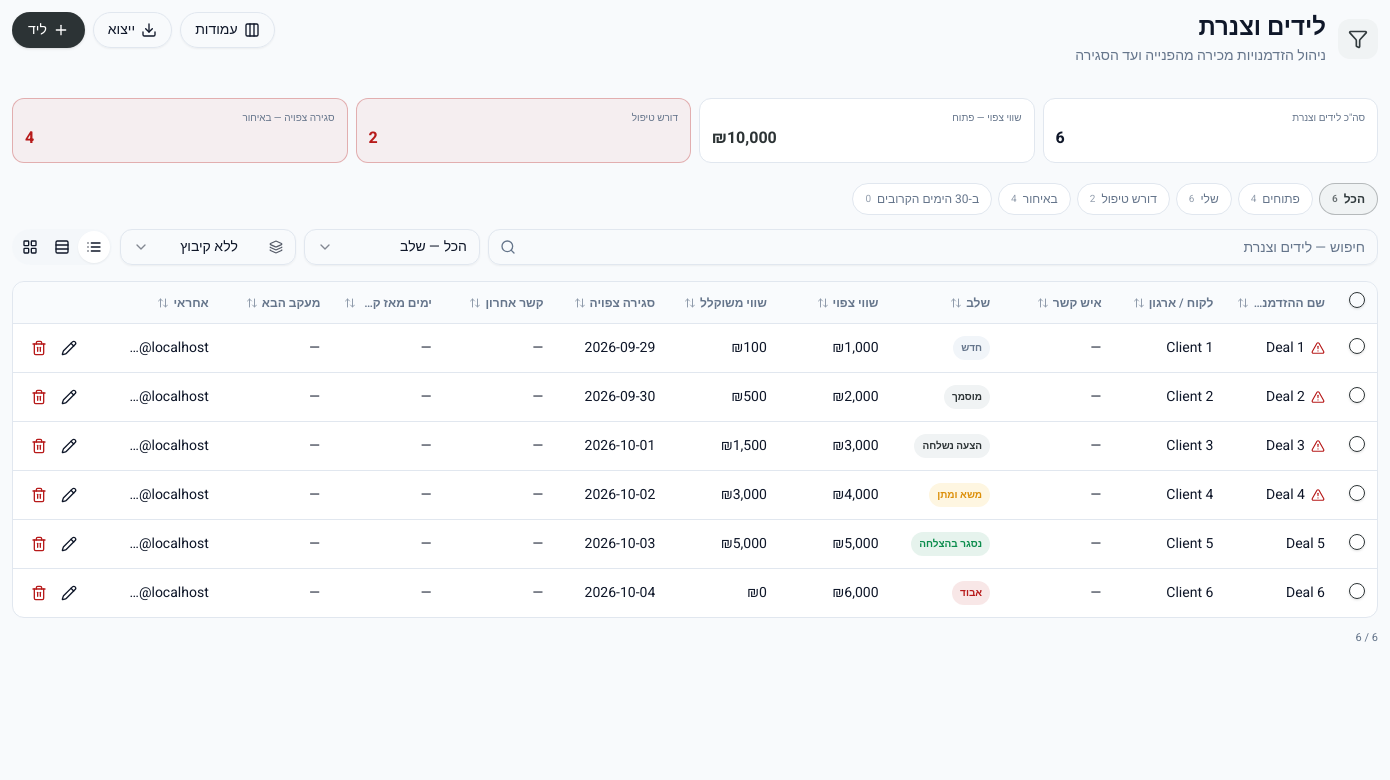
Scenario: selection and bulk actions › drops the selection when the visible set changes
The image size is (1390, 780).
Expected: the text "Deal 1" is shown, [1266,338,1305,358]
Click the checkbox named "בחירת שורה" in the row of "₪100" at (1357, 346), box [1349,338,1365,354]
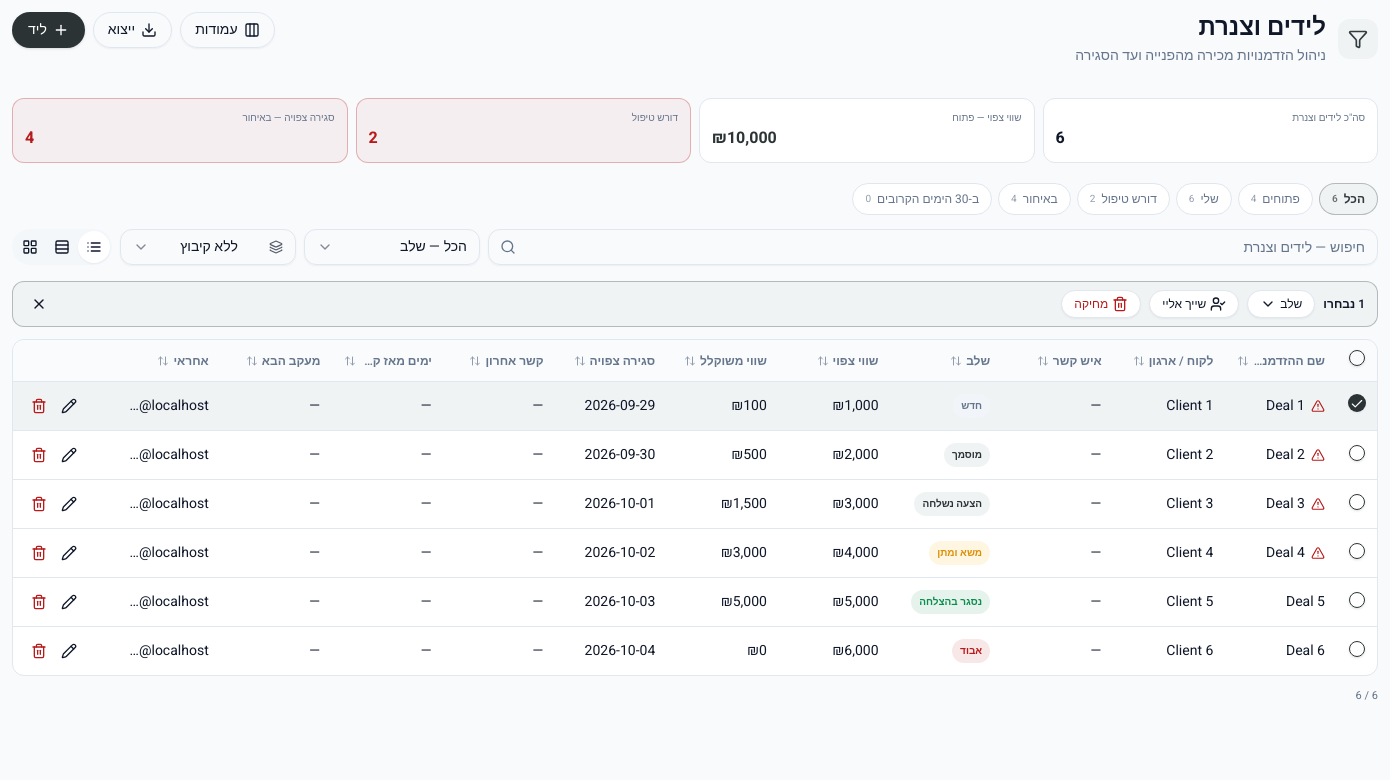
Expected: the text "1 נבחרו" is shown, [1323,295,1355,313]
Click the button "פתוחים 4" at (1275, 199), box [1238,183,1313,215]
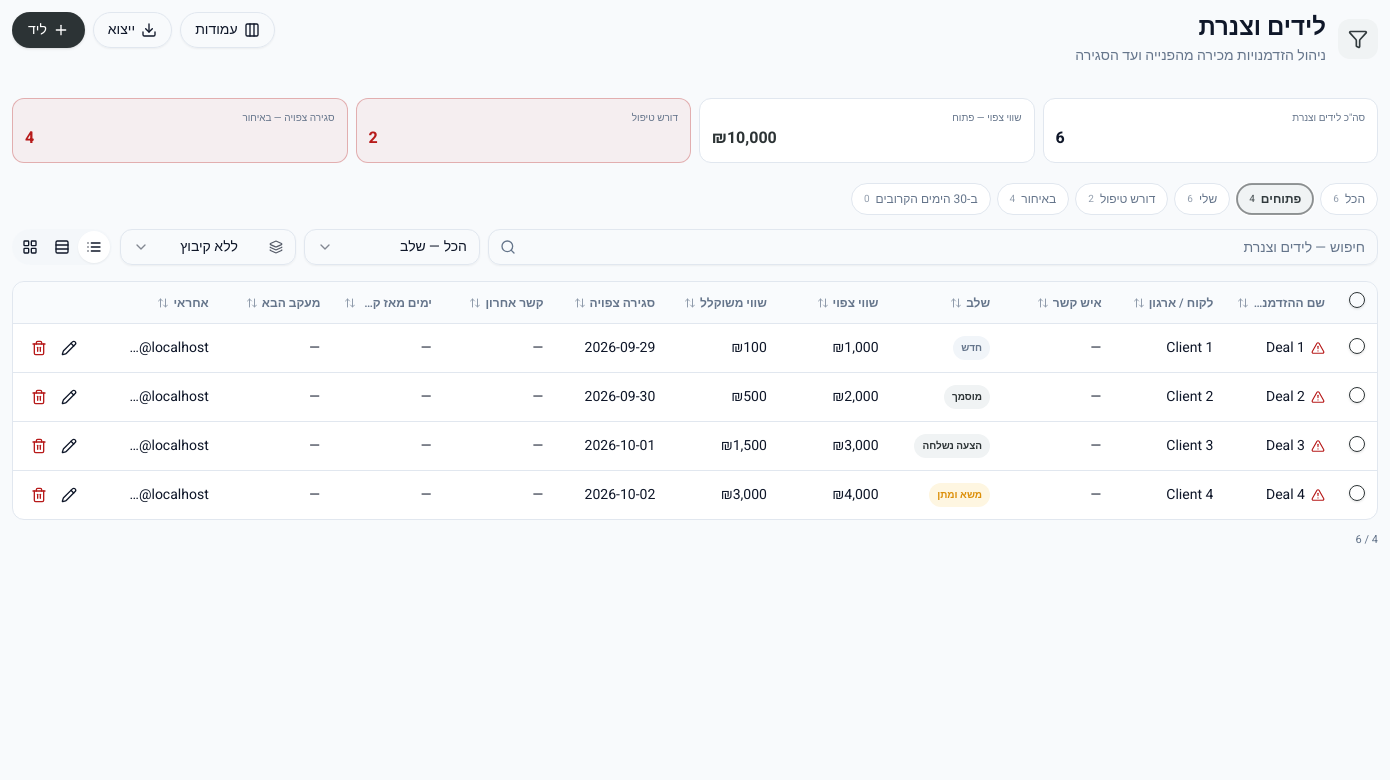
Expected: the text "נבחרו" is gone
